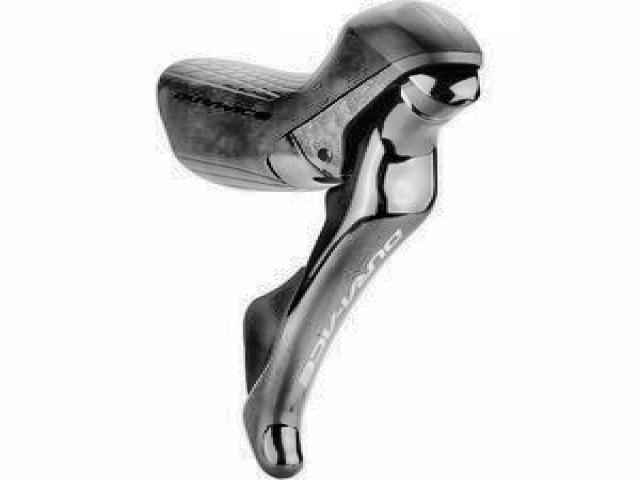sti_shifter: (160, 0, 489, 480)
